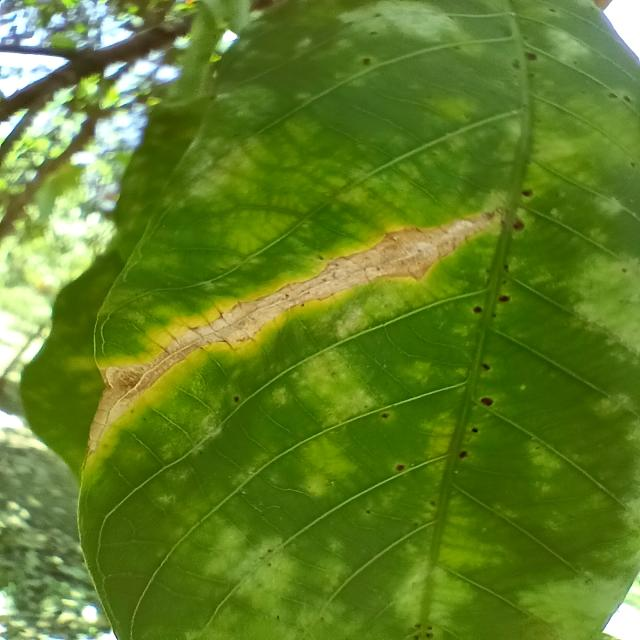Colletotrichum: (480, 397, 494, 407), (513, 220, 525, 231), (522, 188, 534, 198), (458, 450, 469, 460), (472, 305, 484, 314), (479, 363, 492, 371), (499, 294, 510, 303), (471, 426, 480, 434), (396, 464, 406, 471), (382, 413, 389, 419)
Leaf-Blight: (88, 210, 498, 450)
